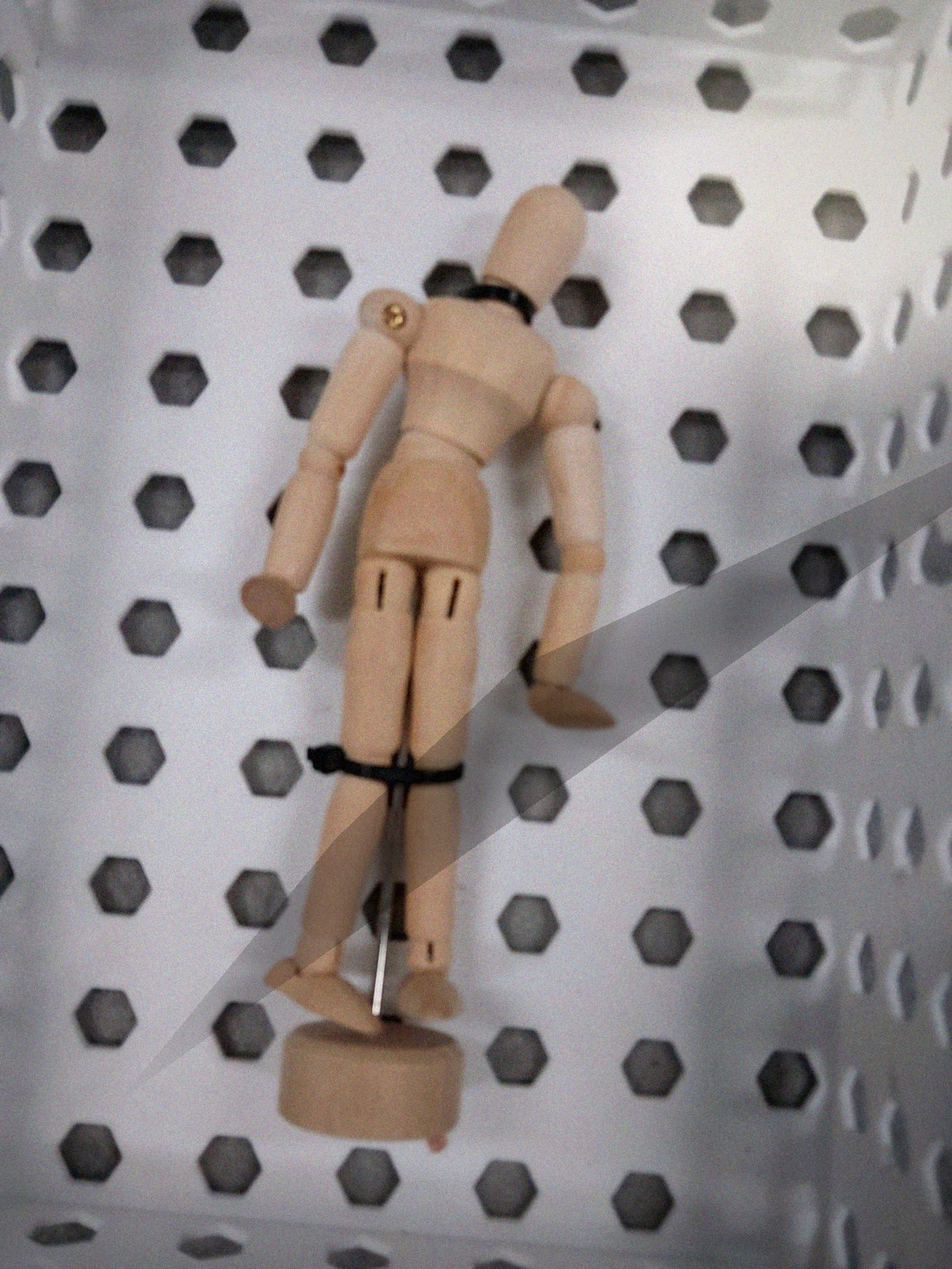mannequin: (228, 175, 630, 1157)
